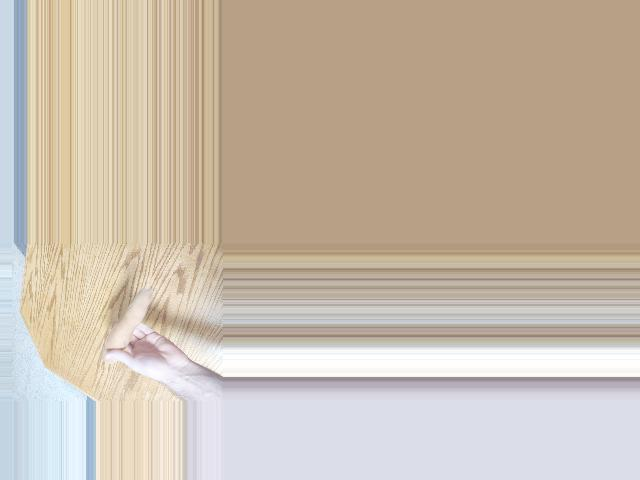sweet_potato: (101, 289, 152, 366)
